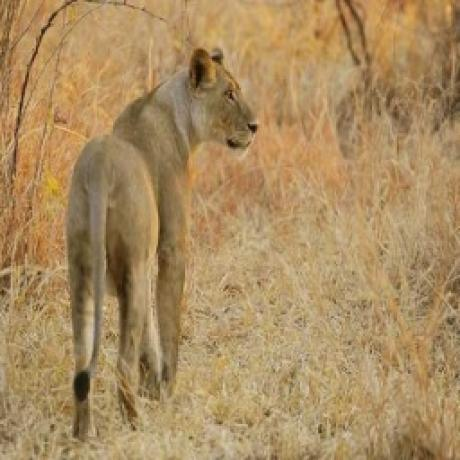Lion: (62, 41, 261, 438)
